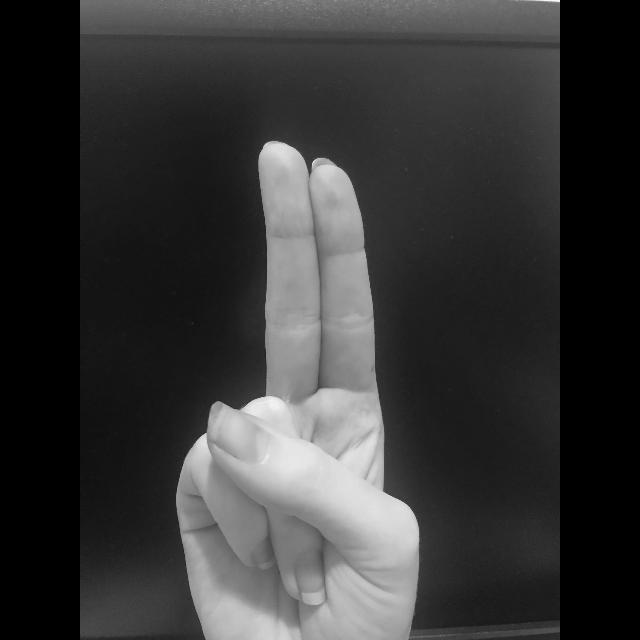U: (170, 136, 428, 640)
